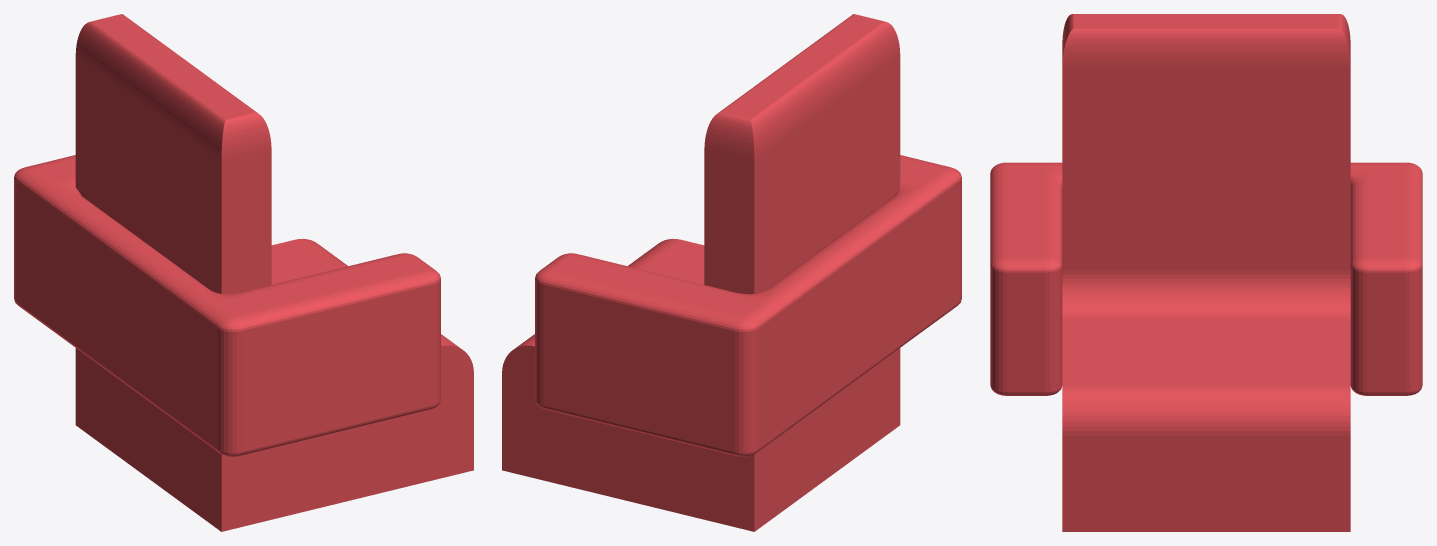
The model's file is Chair.fbx.
3 renders of one model, left to right at view 1: azimuth 30°, elevation 25°; view 2: azimuth 150°, elevation 25°; view 3: azimuth 270°, elevation 25°, orthographic.
Visible parts, largest first — view 1: Cube, Cube.001; view 2: Cube, Cube.001; view 3: Cube, Cube.001.
Part boxes in pixels (x1,y1,x2,y2): Cube: (75,14,473,531); Cube.001: (14,155,440,456); Cube: (502,14,900,531); Cube.001: (535,155,961,456); Cube: (1062,14,1350,531); Cube.001: (990,162,1422,395).
Size of the model in its own units: 225 by 307 by 300.
